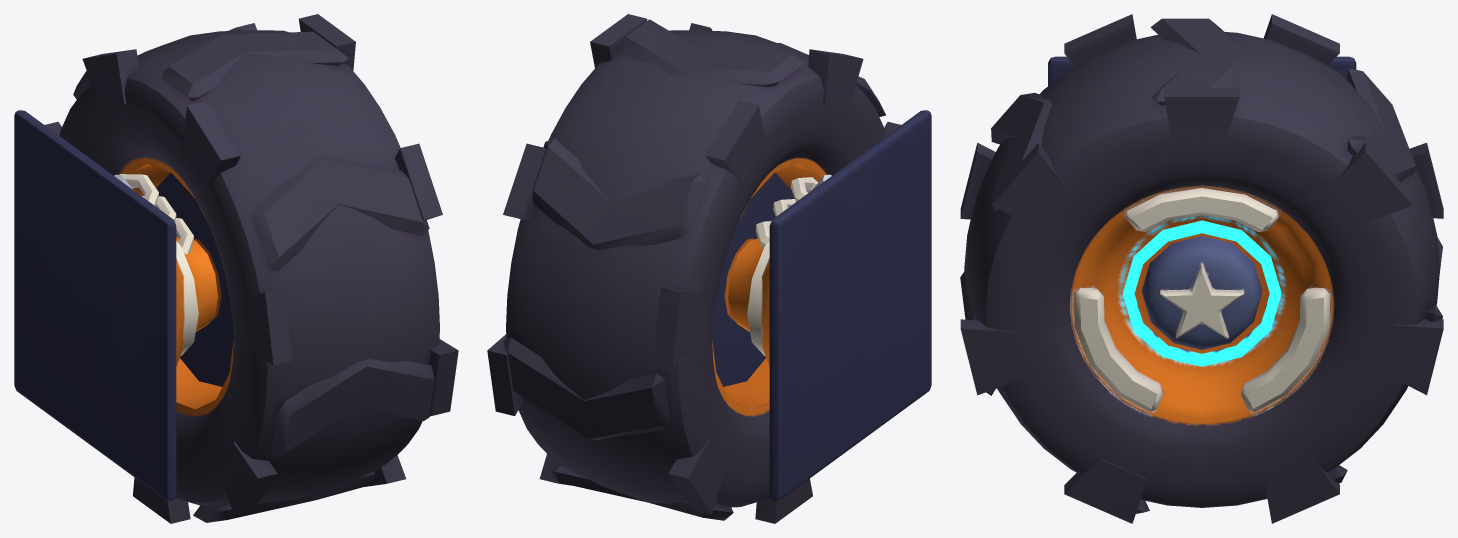
File: R4M_WheelM_Side_Offroad.glb
3 renders of one model, left to right at view 1: azimuth 30°, elevation 25°; view 2: azimuth 150°, elevation 25°; view 3: azimuth 270°, elevation 25°, orthographic.
Visible parts, largest first — view 1: R4M_WheelM_Side_Offroad_Rotor, R4M_WheelM_Side_Offroad_Mount, R4M_WheelM_Side_Offroad_Coil; view 2: R4M_WheelM_Side_Offroad_Rotor, R4M_WheelM_Side_Offroad_Mount, R4M_WheelM_Side_Offroad_Coil; view 3: R4M_WheelM_Side_Offroad_Rotor, R4M_WheelM_Side_Offroad_Mount.
Part boxes in pixels (x1,y1,x2,y2): R4M_WheelM_Side_Offroad_Rotor: (45,14,458,523); R4M_WheelM_Side_Offroad_Mount: (14,110,217,500); R4M_WheelM_Side_Offroad_Coil: (114,174,193,254); R4M_WheelM_Side_Offroad_Rotor: (487,14,900,523); R4M_WheelM_Side_Offroad_Mount: (728,110,931,500); R4M_WheelM_Side_Offroad_Coil: (755,174,831,247); R4M_WheelM_Side_Offroad_Rotor: (960,14,1443,523); R4M_WheelM_Side_Offroad_Mount: (1048,56,1356,85).
Bounding box in the file's own units: 0.451 × 0.76 × 0.7682.
Materials: 4 (4 with a texture image).
